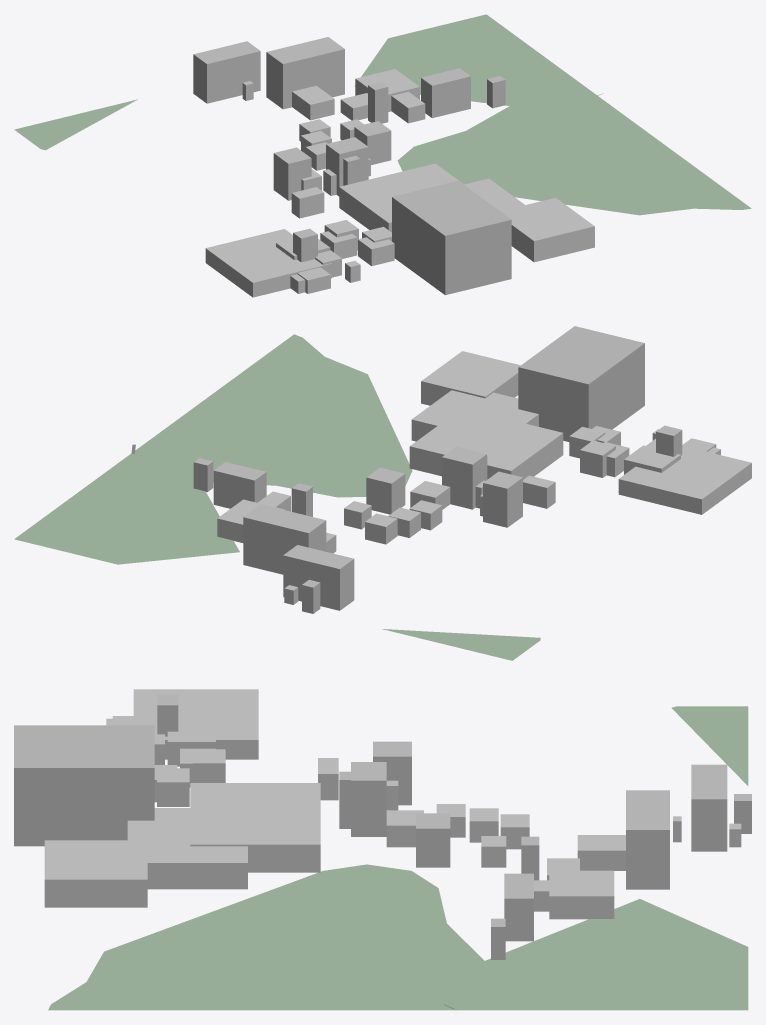
The model's file is 104_110_mid.glb.
3 renders of one model, top to bottom at view 1: azimuth 30°, elevation 25°; view 2: azimuth 150°, elevation 25°; view 3: azimuth 270°, elevation 25°, orthographic. The views are drawn at different scales.
Bounding box in the file's own units: 503 × 61.67 × 513.
